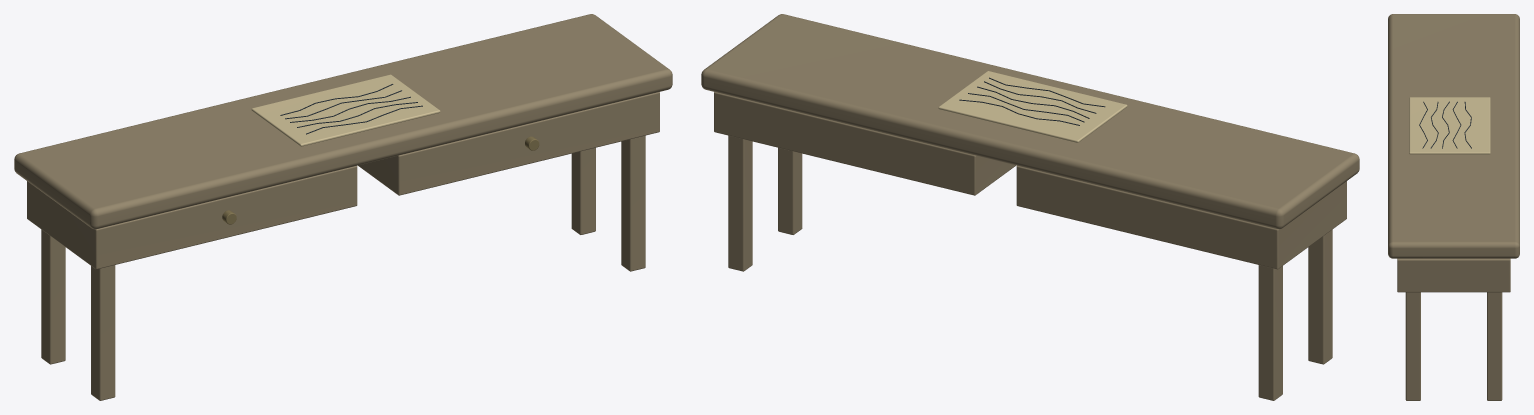
Rendered from temple-console.glb.
3 views of the same model, side by side, from view 1: azimuth 30°, elevation 25°; view 2: azimuth 150°, elevation 25°; view 3: azimuth 270°, elevation 25° (orthographic). The views are drawn at different scales.
Visible parts, largest first — view 1: temple-console - Room Review joinery runtime PBR, temple-console - Room Review paper runtime PBR, temple-console - Room Review ink charcoal runtime PBR; view 2: temple-console - Room Review joinery runtime PBR, temple-console - Room Review paper runtime PBR, temple-console - Room Review ink charcoal runtime PBR; view 3: temple-console - Room Review joinery runtime PBR, temple-console - Room Review paper runtime PBR, temple-console - Room Review ink charcoal runtime PBR.
Boxes of the visible parts, x1,y1,x2,y2 form: temple-console - Room Review joinery runtime PBR: (14, 14, 672, 400); temple-console - Room Review paper runtime PBR: (251, 74, 440, 146); temple-console - Room Review ink charcoal runtime PBR: (280, 84, 422, 134); temple-console - Room Review joinery runtime PBR: (701, 14, 1359, 400); temple-console - Room Review paper runtime PBR: (938, 71, 1127, 142); temple-console - Room Review ink charcoal runtime PBR: (959, 77, 1105, 125); temple-console - Room Review joinery runtime PBR: (1388, 14, 1519, 400); temple-console - Room Review paper runtime PBR: (1409, 97, 1490, 154); temple-console - Room Review ink charcoal runtime PBR: (1419, 101, 1471, 148).
Size of the model in its own units: 2.7 by 0.918 by 0.65.
